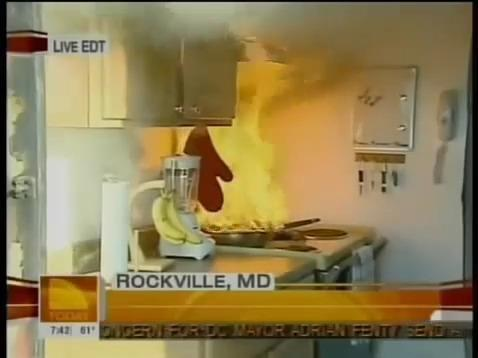fire: (199, 91, 294, 238)
